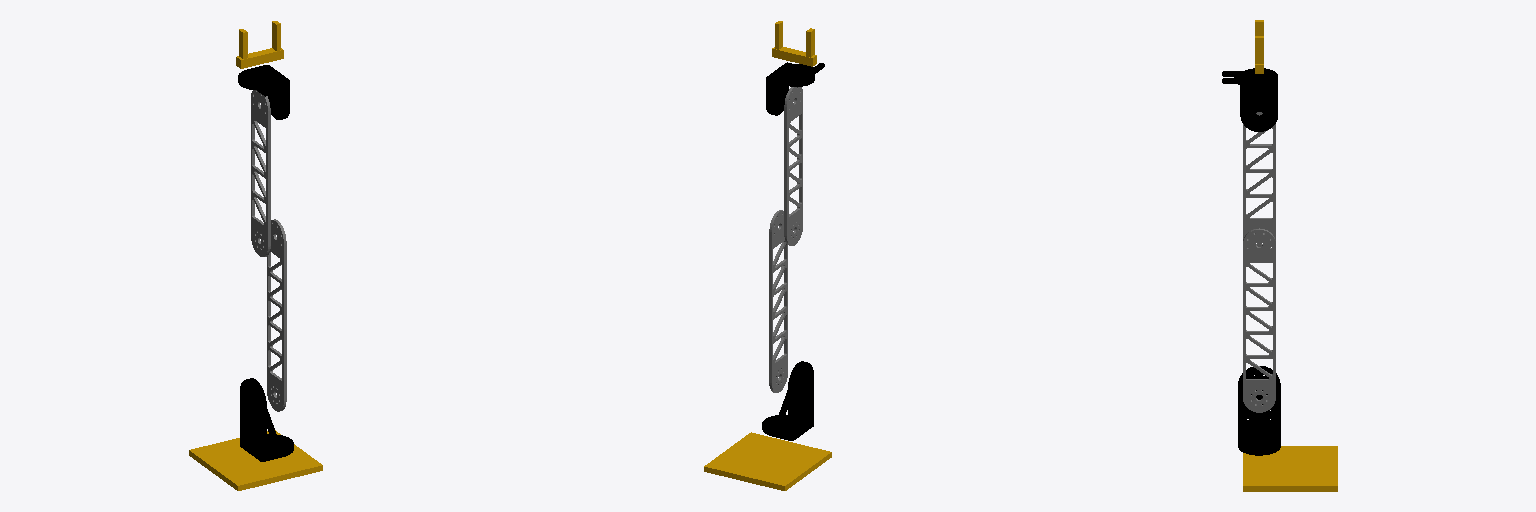
URDF robot description (fivedof):
<?xml version="1.0"?>

<robot name="fivedof">

  <!-- ******************************************************** -->
  <!-- ******************* Kinematic Chain ******************** -->
  <!-- ******************************************************** -->
  <!-- Note the 'origin' tag in the joints defines the shift and
       reorientation, i.e. the transform.  For moving joints, this
       happens before the continuous joint rotates around 'axis'. -->

  <!-- World can't take a visual element (at least in Gazebo). -->
  <link name="world"/>

  <!-- Middle of base plate in x, bottom in z-->
  <joint name="placement" type="fixed">
    <parent link="world"/>
    <child  link="baseplate"/>
    <origin xyz="0 0 0.0253" rpy="0 0 0"/>
  </joint>

  <!-- BASE PLATE: Shift across the base plate to the base motor. -->
  <link name="baseplate">
    <inertial>
      <origin xyz="0 0.1 0.00625" rpy="0 0 0"/>
      <mass value="0.150"/>
      <inertia ixx="0.000502" ixy="0" ixz="0" iyy="0.000502" iyz="0" izz="0.001000"/>
    </inertial>
    <visual>
      <origin xyz="0 0.1 0.00625" rpy="0 0 0"/> <!--Center of base plate-->
      <geometry>
	      <box size="0.2 0.2 0.0125"/>
      </geometry>
      <material name="wood"/>
    </visual>
    <collision>
      <origin xyz="0 0.1 0.00625" rpy="0 0 0"/>
      <geometry>
        <box size="0.2 0.2 0.0125"/>
      </geometry>
    </collision>
  </link>

  <!--From bottom of baseplate to middle of basemotor in y, bottom in z-->
  <joint name="baseplate" type="fixed">
    <parent link="baseplate"/>  <!--Bottom of baseplate-->
    <child  link="basemotor"/>  <!--Bottom of basemotor-->
    <origin xyz="0 0.035 0.0125" rpy="0 0 0"/> <!--y: offset of center of motor from edge of base plate, z: baseplate thickness-->
  </joint>

  <!-- BASE MOTOR: Thickness: X5 = 31.1mm, X8 = 45.1mm -->
  <link name="basemotor">
    <inertial>
      <origin xyz="0 0 0.0225" rpy="0 0 0"/>
      <mass value="0.475"/>
      <inertia ixx="0.000291" ixy="0" ixz="0" iyy="0.000559" iyz="0" izz="0.000690"/>
    </inertial>
    <visual>
      <origin xyz="0 0 0" rpy="0 0 1.5708"/>
      <geometry>
        <mesh filename="package://threedof/meshes/X8.stl"
	      scale="0.001 0.001 0.001"/>
      </geometry>
      <material name="hebi"/>
    </visual>
    <collision>
      <origin xyz="0 0 0.0225" rpy="0 0 1.5708"/>
      <geometry>
        <box size="0.110 0.073 0.045"/>
      </geometry>
    </collision>
  </link>

  <joint name="base" type="continuous">
    <parent link="basemotor"/> <!--Bottom of basemotor-->
    <child  link="lbracket"/> <!--Top of basemotor-->
    <origin xyz="0 0 0.0451" rpy="0 0 0"/> <!--z: basemotor thickness-->
    <axis   xyz="0 0 1"/>
  </joint>

  <link name="lbracket">
    <inertial>
      <origin xyz="-0.02 0 0.06" rpy="0 0 0"/>
      <mass value="0.100"/>
      <inertia ixx="0.000188" ixy="0" ixz="0" iyy="0.000188" iyz="0" izz="0.000135"/>
    </inertial>
    <visual>
      <origin xyz="0.04485 -0.04485 0.0" rpy="1.5708 0 3.1415"/>
      <geometry>
        <mesh filename="package://threedof/meshes/basebracket_5dof.stl"
        scale="1.0 1.0 1.0"/>
      </geometry>
      <material name="black"/>
    </visual>
    <collision>
      <origin xyz="-0.02 0 0.06" rpy="0 0 0"/>
      <geometry>
        <box size="0.09 0.09 0.12"/>
      </geometry>
    </collision>
  </link>

  <joint name="lbracket_shoulder" type="fixed">
    <parent link="lbracket"/> <!--Middle of basemotor-->
    <child  link="shouldermotor"/> <!--Front of shouldermotor where table edge is front-->
    <origin xyz="-0.0373 0 0.12025" rpy="0 -1.5708 3.1415"/>	  <!-- L BRACKET DIMENIONS -->
  </joint>

  <!-- TODO: fix origin -->
  <joint name="lbracket_gripper" type="fixed">
    <parent link="lbracket"/>
    <child  link="grippermotor"/>
    <origin xyz="-0.05 0 0.05" rpy="3.1415 -1.5708 -3.1415"/>
  </joint>

  <!-- Gripper motor -->
  <link name="grippermotor">
    <inertial>
      <origin xyz="0 0 0.0155" rpy="0 0 0"/>
      <mass value="0.330"/>
      <inertia ixx="0.000173" ixy="0" ixz="0" iyy="0.000359" iyz="0" izz="0.000479"/>
    </inertial>
    <visual>
      <origin xyz="0 0 0" rpy="0 0 0"/>
      <geometry>
        <mesh filename="package://threedof/meshes/X5.stl"
        scale="0.001 0.001 0.001"/>
      </geometry>
      <material name="hebi"/>
    </visual>
    <collision>
      <origin xyz="0 0 0.0155" rpy="0 0 0"/>
      <geometry>
        <box size="0.110 0.073 0.031"/>
      </geometry>
    </collision>
  </link>

  <!-- SHOULDER MOTOR: Thickness: X5 = 31.1mm, X8 = 45.1mm -->
  <link name="shouldermotor">
    <inertial>
      <origin xyz="0 0 0.0225" rpy="0 0 0"/>
      <mass value="0.475"/>
      <inertia ixx="0.000291" ixy="0" ixz="0" iyy="0.000559" iyz="0" izz="0.000690"/>
    </inertial>
    <visual>
      <origin xyz="0 0 0" rpy="0 0 0"/>
      <geometry>
        <mesh filename="package://threedof/meshes/X8.stl"
	      scale="0.001 0.001 0.001"/>
      </geometry>
      <material name="hebi"/>
    </visual>
    <collision>
      <origin xyz="0 0 0.0225" rpy="0 0 0"/>
      <geometry>
        <box size="0.110 0.073 0.045"/>
      </geometry>
    </collision>
  </link>


  <joint name="shoulder" type="continuous">
    <parent link="shouldermotor"/> <!--Front of shouldermotor-->
    <child  link="lowerarm"/> <!--Middle of shouldermotor cylinder-->
    <origin xyz="0 0 0.0451" rpy="0 0 0"/>
    <axis   xyz="0 0 1"/>
  </joint>

  <link name="lowerarm">
    <inertial>
      <origin xyz="0.1778 0 0" rpy="0 0 0"/>
      <mass value="0.272"/>
      <inertia ixx="0.000133" ixy="0" ixz="0" iyy="0.002867" iyz="0" izz="0.002998"/>
    </inertial>
    <visual>
      <origin xyz="-0.035 0.035 0" rpy="1.5708 0 0"/>
      <geometry>
        <mesh filename="package://threedof/meshes/lowerarm_5dof.stl"
	      scale="1.0 1.0 1.0"/>
      </geometry>
      <material name="alum"/>
    </visual>
    <collision>
      <origin xyz="0.1778 0 0" rpy="0 0 0"/>
      <geometry>
        <box size="0.3556 0.0762 0.00635"/>
      </geometry>
    </collision>
  </link>

  <joint name="lowerarm" type="fixed">
    <parent link="lowerarm"/>
    <child  link="elbowmotor"/>
    <origin xyz="0.3556 0 0" rpy="3.1415 0 0"/>
  </joint>

  <!-- Elbow motor.  Thickness: X5 = 31.1mm, X8 = 45.1mm -->
  <link name="elbowmotor">
    <inertial>
      <origin xyz="0 0 0.0155" rpy="0 0 0"/>
      <mass value="0.360"/>
      <inertia ixx="0.000189" ixy="0" ixz="0" iyy="0.000392" iyz="0" izz="0.000523"/>
    </inertial>
    <visual>
      <geometry>
        <mesh filename="package://threedof/meshes/X5.stl"
	      scale="0.001 0.001 0.001"/>
      </geometry>
      <material name="hebi"/>
    </visual>
    <collision>
      <origin xyz="0 0 0.0155" rpy="0 0 0"/>
      <geometry>
        <box size="0.110 0.073 0.031"/>
      </geometry>
    </collision>
  </link>

  <joint name="elbow" type="continuous">
    <parent link="elbowmotor"/>
    <child  link="upperarm"/>
    <origin xyz="0 0 0.0311" rpy="0 0 0"/>
    <axis   xyz="0 0 1"/>
  </joint>

  <link name="upperarm">
    <inertial>
      <origin xyz="0.1524 0 0" rpy="0 0 0"/>
      <mass value="0.272"/>
      <inertia ixx="0.000133" ixy="0" ixz="0" iyy="0.002107" iyz="0" izz="0.002238"/>
    </inertial>
    <visual>
      <origin xyz="-0.035 0.035 0.0" rpy="1.5708 0.0 0.0"/>
      <geometry>
        <mesh filename="package://threedof/meshes/upperarm_5dof.stl"
	      scale="1.0 1.0 1.0"/>
      </geometry>
      <material name="alum"/>
    </visual>
    <collision>
      <origin xyz="0.1524 0 0" rpy="0 0 0"/>
      <geometry>
        <box size="0.3048 0.0762 0.00635"/>
      </geometry>
    </collision>
  </link>

  <joint name="upperarm" type="fixed">
    <parent link="upperarm"/>
    <child  link="wrist_tilt_motor"/>
    <origin xyz="0.3048 0 0" rpy="3.1415 0 0"/>
    <axis   xyz="0 0 1"/>
  </joint>

  <link name="wrist_tilt_motor">
    <inertial>
      <origin xyz="0 0 0.0155" rpy="0 0 0"/>
      <mass value="0.330"/>
      <inertia ixx="0.000173" ixy="0" ixz="0" iyy="0.000359" iyz="0" izz="0.000479"/>
    </inertial>
    <visual>
      <geometry>
        <mesh filename="package://threedof/meshes/X5.stl"
        scale="0.001 0.001 0.001"/>
      </geometry>
      <material name="hebi"/>
    </visual>
    <collision>
      <origin xyz="0 0 0.0155" rpy="0 0 0"/>
      <geometry>
        <box size="0.110 0.073 0.031"/>
      </geometry>
    </collision>
  </link>

  <joint name="wrist_tilt" type="continuous">
    <parent link="wrist_tilt_motor"/>
    <child  link="wrist_bracket"/>
    <origin xyz="0 0 0.0438" rpy="0 0 0"/>
    <axis   xyz="0 0 1"/>
  </joint>

  <link name="wrist_bracket">
    <inertial>
      <origin xyz="0.033 0 -0.025" rpy="0 0 0"/>
      <mass value="0.100"/>
      <inertia ixx="0.000074" ixy="0" ixz="0" iyy="0.000056" iyz="0" izz="0.000089"/>
    </inertial>
    <visual>
      <origin xyz="0.0654 -0.04 0.0" rpy="0 1.5708 1.5708"/>
      <geometry>
        <mesh filename="package://threedof/meshes/wrist_5dof.stl"
        scale="1.0 1.0 1.0"/>
      </geometry>
      <material name="black"/>
    </visual>
    <collision>
      <origin xyz="0.033 0 -0.025" rpy="0 0 0"/>
      <geometry>
        <box size="0.065 0.08 0.05"/>
      </geometry>
    </collision>
  </link>

  <!-- TODO: fix origin -->
  <joint name="wrist_bracket" type="fixed">
    <parent link="wrist_bracket"/>
    <child  link="wrist_roll_motor"/>
    <origin xyz="0.065 0 -0.049" rpy="0 1.5708 0"/>
  </joint>

  <link name="wrist_roll_motor">
    <inertial>
      <origin xyz="0 0 0.0155" rpy="0 0 0"/>
      <mass value="0.330"/>
      <inertia ixx="0.000173" ixy="0" ixz="0" iyy="0.000359" iyz="0" izz="0.000479"/>
    </inertial>
    <visual>
      <geometry>
        <mesh filename="package://threedof/meshes/X5.stl"
        scale="0.001 0.001 0.001"/>
      </geometry>
      <material name="hebi"/>
    </visual>
    <collision>
      <origin xyz="0 0 0.0155" rpy="0 0 0"/>
      <geometry>
        <box size="0.110 0.073 0.031"/>
      </geometry>
    </collision>
  </link>

  <joint name="wrist_roll" type="continuous">
    <parent link="wrist_roll_motor"/>
    <child  link="gripper_base"/>
    <origin xyz="0 0 0.0311" rpy="0 0 0"/>
    <axis   xyz="0 0 1"/>
  </joint>

  <!--Model gripper as 2 prismatic fingers that move diagonally-->
  <link name="gripper_base">
    <inertial>
      <origin xyz="0 0 0.01" rpy="0 0 0"/>
      <mass value="0.120"/>
      <inertia ixx="0.000008" ixy="0" ixz="0" iyy="0.000104" iyz="0" izz="0.000104"/>
    </inertial>
    <visual>
      <origin xyz="0 0 0.01" rpy="0 0 0"/>
      <geometry>
        <box size="0.10 0.02 0.02"/>
      </geometry>
      <material name="wood"/>
    </visual>
    <collision>
      <origin xyz="0 0 0.01" rpy="0 0 0"/>
      <geometry>
        <box size="0.10 0.02 0.02"/>
      </geometry>
    </collision>
  </link>

  <joint name="gripper" type="prismatic">
    <parent link="gripper_base"/>
    <child  link="finger_left"/>
    <!--Max opening distance is approx 2 blocks (2 * 1.34in = 0.0682m) -> Each finger is 0.0682/2m + finger thickness (0.005m) = 0.0391 from center of gripper-->
    <origin xyz="-0.0391 0 0.02" rpy="0 0 0"/>
    <!--Move diagonally in x and z (ratios computed by estimates in motion: x = 0.0341m, y ~= 0.035m); axis vector normalized-->
    <axis   xyz="0.698 0 0.716"/>
    <!--sqrt(0.0341^2 + 0.035^2) = 0.0489-->
    <limit lower="0.0" upper="0.0489" effort="10" velocity="0.5"/>
  </joint>

  <joint name="gripper_clone" type="prismatic">
    <parent link="gripper_base"/>
    <child  link="finger_right"/>
    <origin xyz="0.0391 0 0.02" rpy="0 0 0"/>
    <axis   xyz="0.698 0 -0.716"/>
    <limit lower="-0.0489" upper="0.0" effort="10" velocity="0.5"/>
    <mimic joint="gripper" multiplier="-1" offset="0"/>
  </joint>

  <link name="finger_left">
    <inertial>
      <origin xyz="0 0 0.03" rpy="0 0 0"/>
      <mass value="0.050"/>
      <inertia ixx="0.000016" ixy="0" ixz="0" iyy="0.000015" iyz="0" izz="0.000002"/>
    </inertial>
    <visual>
      <origin xyz="0 0 0.03" rpy="0 0 0"/>
      <geometry>
        <box size="0.01 0.0178 0.06"/>
      </geometry>
      <material name="wood"/>
    </visual>
    <collision>
      <origin xyz="0 0 0.03" rpy="0 0 0"/>
      <geometry>
        <box size="0.01 0.0178 0.06"/>
      </geometry>
    </collision>
  </link>

  <link name="finger_right">
    <inertial>
      <origin xyz="0 0 0.03" rpy="0 0 0"/>
      <mass value="0.050"/>
      <inertia ixx="0.000016" ixy="0" ixz="0" iyy="0.000015" iyz="0" izz="0.000002"/>
    </inertial>
    <visual>
      <origin xyz="0 0 0.03" rpy="0 0 0"/>
      <geometry>
        <box size="0.01 0.0178 0.06"/>
      </geometry>
      <material name="wood"/>
    </visual>
    <collision>
      <origin xyz="0 0 0.03" rpy="0 0 0"/>
      <geometry>
        <box size="0.01 0.0178 0.06"/>
      </geometry>
    </collision>
  </link>

  <joint name="tip_slide" type="prismatic">
    <parent link="gripper_base"/>
    <child  link="tip"/>
    <origin xyz="0 0 0.08" rpy="0 0 0"/>
    <axis   xyz="0 0 1"/>
    <mimic joint="gripper" multiplier="0.716" offset="0"/>
    <limit lower="0.0" upper="0.035" effort="10" velocity="0.5"/>
  </joint>

  <link name="tip"/>

  <!-- *************************************************** -->
  <!-- *************** Visual Link Elements ************** -->
  <!-- *************************************************** -->
  <!-- Note collada .dae files are preferred over .stl as  -->
  <!-- they specify and provide color/texture support.    -->

  <!-- Colors -->
  <material name="wood">  <color rgba="0.82 0.62 0.04 1"/>  </material>
  <material name="hebi">  <color rgba="0.82 0.06 0.06 1"/>  </material>
  <material name="alum">  <color rgba="0.5 0.5 0.5 1"/>  </material>
  <material name="black">  <color rgba="0 0 0 1"/>  </material>



</robot>

--- What the picture shows (computed from the rendered views, not written in the file) ---
Views: 3 orthographic renders of the robot side by side, from view 1: azimuth 30°, elevation 25°; view 2: azimuth 150°, elevation 25°; view 3: azimuth 270°, elevation 25°.
Robot: fivedof — 16 links, 15 joints (5 continuous, 3 prismatic, 7 fixed); root link world; default pose: all joints at 0.
Links seen in each view (by area): view 1: baseplate, lowerarm, upperarm, lbracket, wrist_bracket, gripper_base; view 2: baseplate, lowerarm, lbracket, upperarm, wrist_bracket; view 3: baseplate, lowerarm, lbracket, wrist_bracket, upperarm.
Boxes of the visible links, x1,y1,x2,y2 form: baseplate: (189, 430, 322, 490); lowerarm: (267, 219, 286, 411); upperarm: (251, 90, 270, 256); lbracket: (240, 378, 293, 461); wrist_bracket: (238, 65, 289, 119); gripper_base: (236, 48, 283, 68); baseplate: (704, 432, 831, 490); lowerarm: (769, 210, 787, 392); lbracket: (762, 361, 813, 440); upperarm: (784, 87, 802, 245); wrist_bracket: (766, 62, 824, 115); baseplate: (1243, 446, 1337, 491); lowerarm: (1243, 228, 1275, 412); lbracket: (1238, 366, 1280, 455); wrist_bracket: (1222, 68, 1277, 131); upperarm: (1243, 112, 1275, 247).
Bounding box of the posed robot: 0.2 × 0.2431 × 1.01 m (x, y, z).
Meshes: 6 distinct files referenced, 4 mesh visuals loaded (3 binary STL, 1 ASCII STL); not drawn: 6 (file found but could not be loaded).
